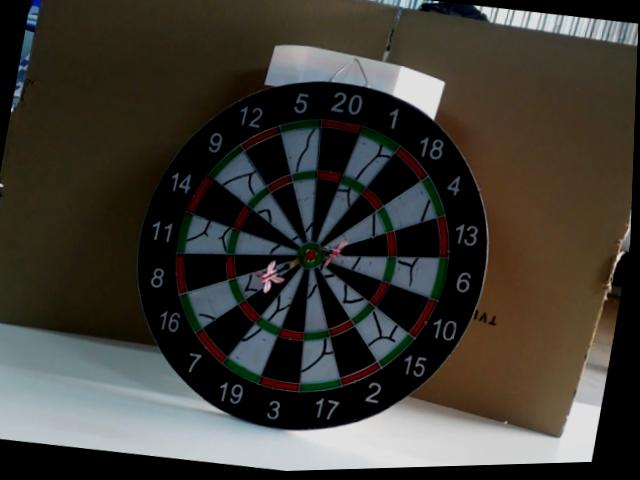bullseye: (294, 241, 325, 270)
